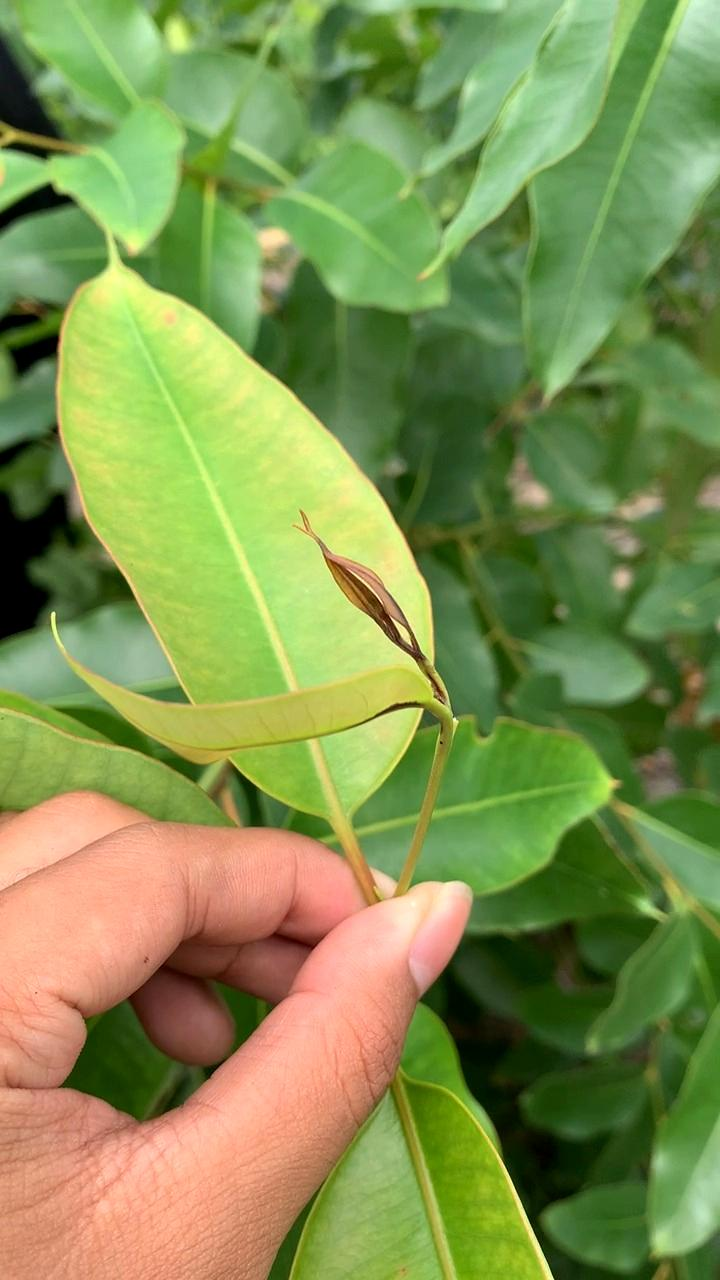Helopeltis-Withered Sprout: (293, 508, 467, 721)
